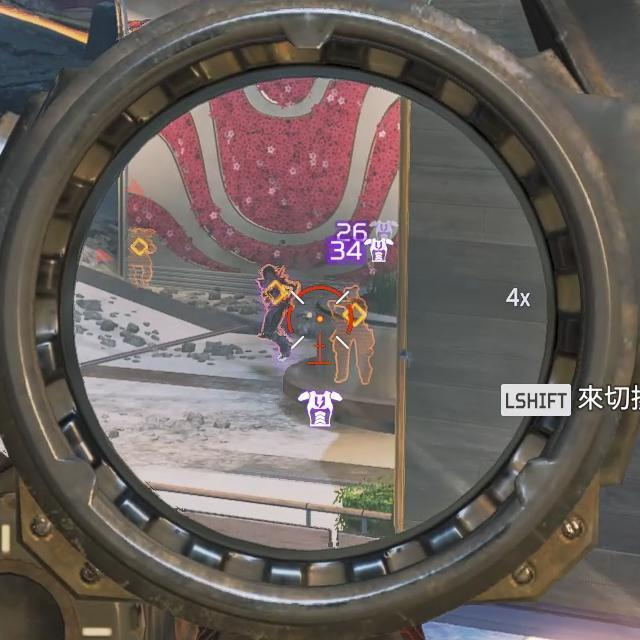avatar: (257, 262, 297, 359)
object: (341, 300, 369, 329), (264, 278, 289, 306), (129, 236, 149, 257)
